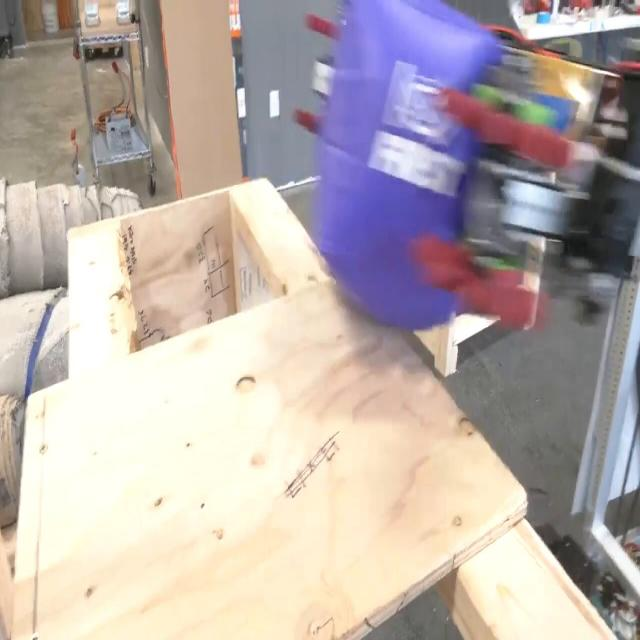frc_cube: (324, 0, 503, 346)
